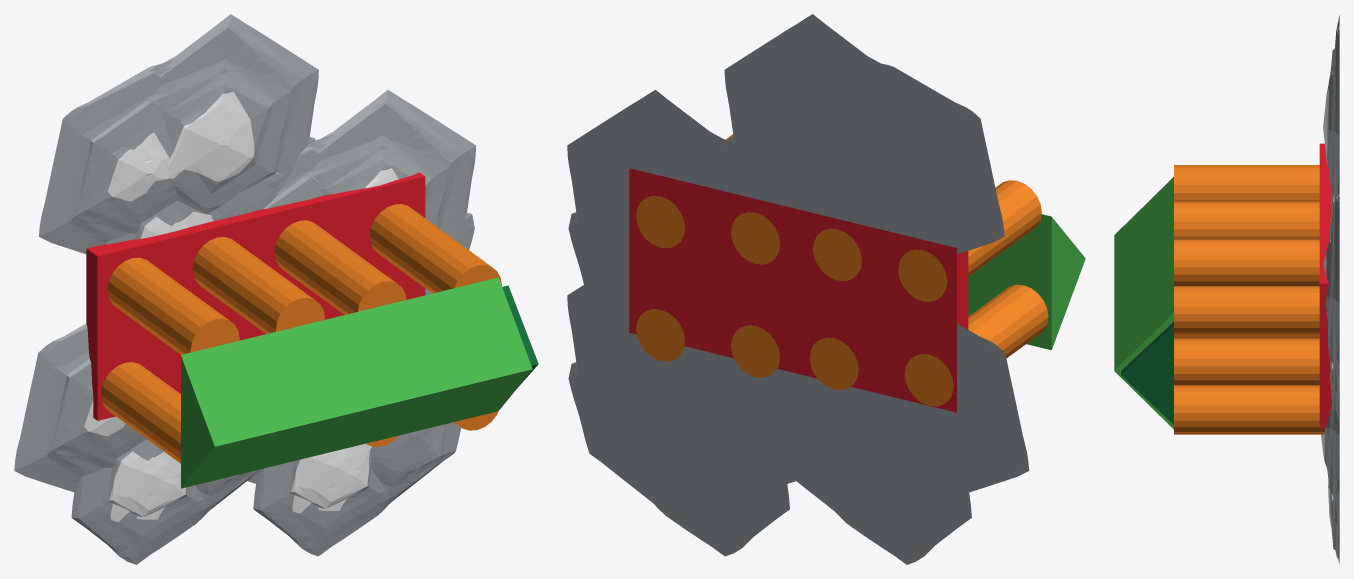
File: tinker.obj
3 renders of one model, left to right at view 1: azimuth 30°, elevation 25°; view 2: azimuth 150°, elevation 25°; view 3: azimuth 270°, elevation 25°, orthographic. The views are drawn at different scales.
Parts seen in each view (by area): view 1: group_0_10988977, group_0_4634441, group_0_16089887, group_0_15277357, group_0_16448250, group_0_1206582; view 2: group_0_10988977, group_0_15277357, group_0_16089887, group_0_4634441; view 3: group_0_16089887, group_0_4634441, group_0_10988977, group_0_1206582, group_0_15277357, group_0_16448250.
Part boxes in pixels (x1,y1,x2,y2): group_0_10988977: [14, 14, 475, 564]; group_0_4634441: [181, 277, 532, 488]; group_0_16089887: [101, 204, 501, 463]; group_0_15277357: [86, 172, 425, 420]; group_0_16448250: [84, 91, 398, 521]; group_0_1206582: [502, 285, 538, 388]; group_0_10988977: [567, 14, 1029, 564]; group_0_15277357: [629, 168, 968, 412]; group_0_16089887: [636, 134, 1048, 406]; group_0_4634441: [968, 214, 1085, 350]; group_0_16089887: [1174, 165, 1325, 434]; group_0_4634441: [1114, 177, 1173, 429]; group_0_10988977: [1324, 15, 1339, 563]; group_0_1206582: [1121, 322, 1173, 424]; group_0_15277357: [1319, 143, 1331, 427]; group_0_16448250: [1321, 78, 1331, 526].
Bounding box in the file's own units: 141 × 164 × 68.
